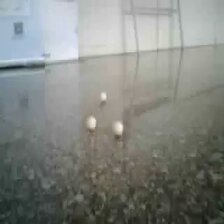w: (111, 121, 124, 136), (86, 117, 96, 130), (100, 92, 109, 102)
